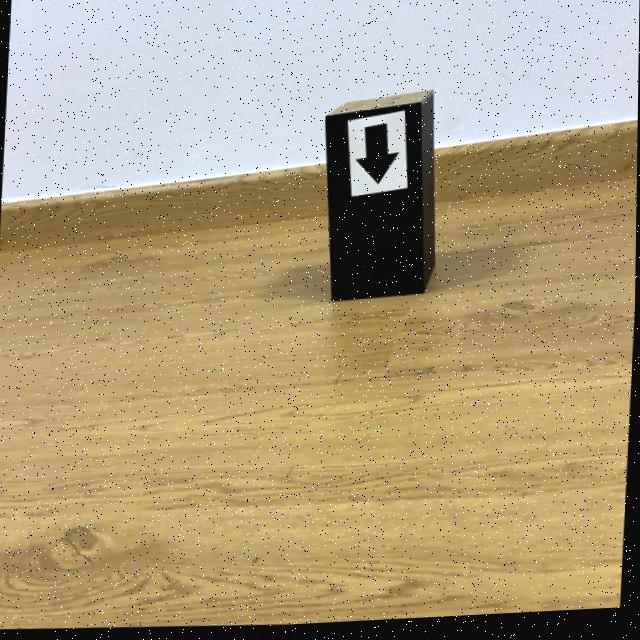DOWN: (357, 128, 398, 188)
